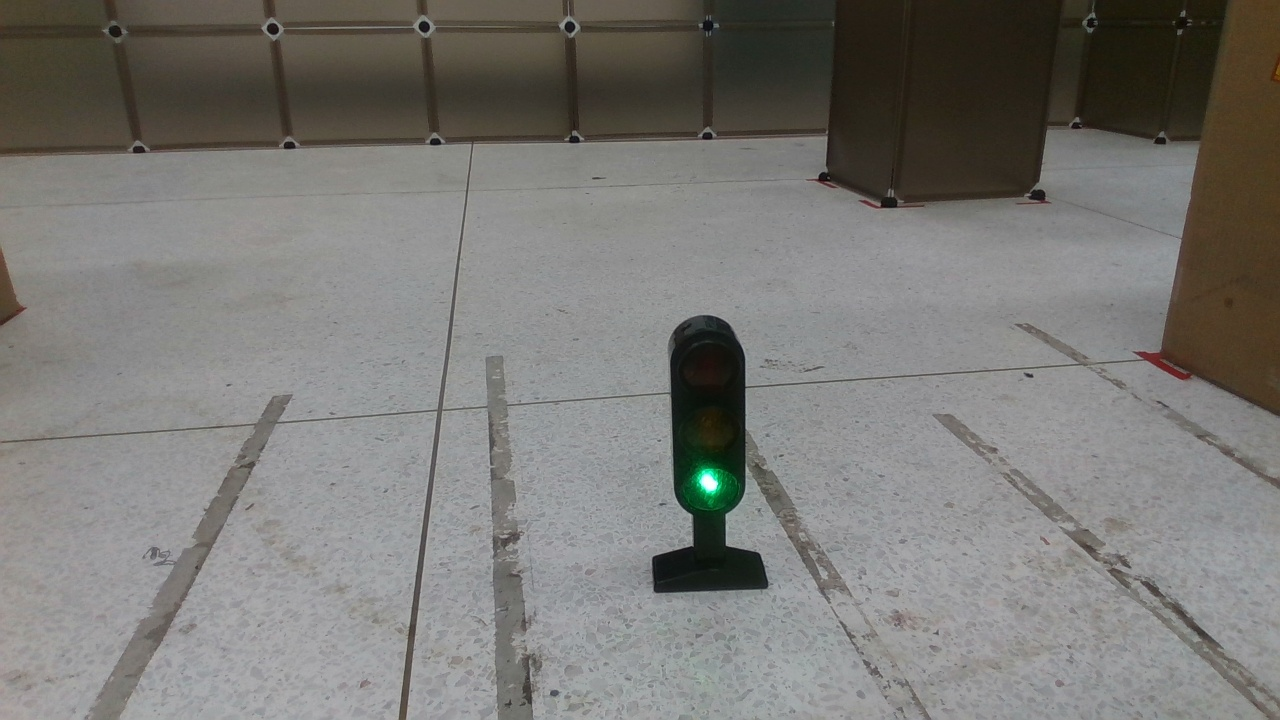Green traffic light: (651, 312, 773, 594)
